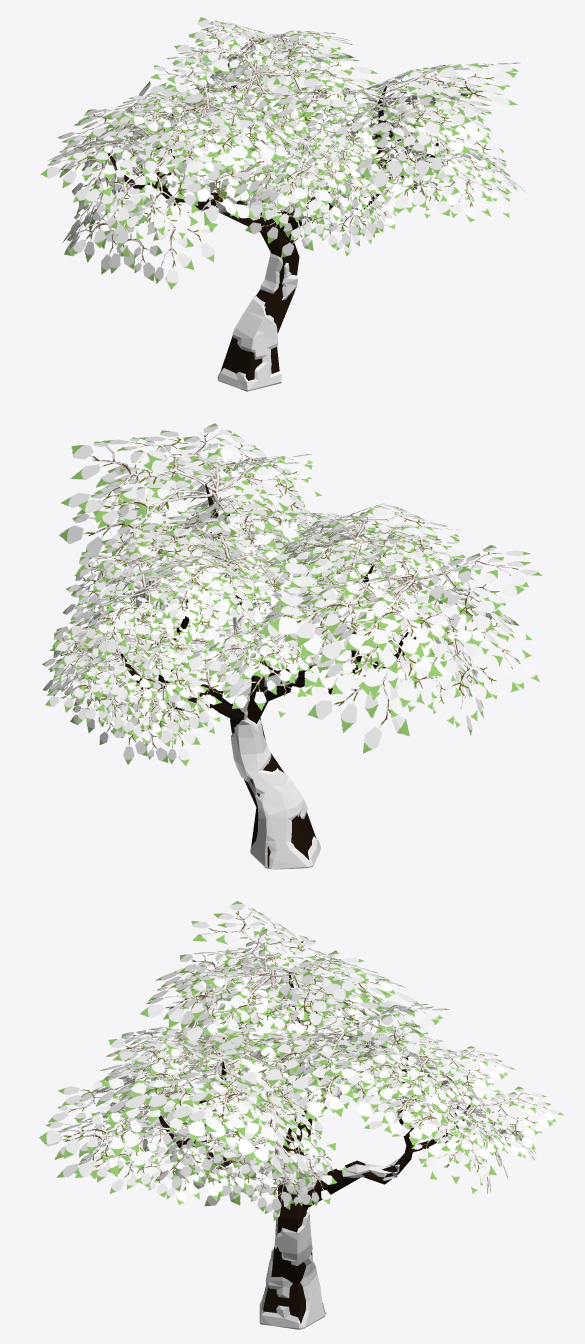
Rendered from Tree_GreenWSnow_03.obj.
The picture shows the model from 3 angles, top to bottom: view 1: azimuth 30°, elevation 25°; view 2: azimuth 150°, elevation 25°; view 3: azimuth 270°, elevation 25°; orthographic projection. The views are drawn at different scales.
Visible parts, largest first — view 1: Tree_GreenWSnow_03_Plane.024; view 2: Tree_GreenWSnow_03_Plane.024; view 3: Tree_GreenWSnow_03_Plane.024.
Part boxes in pixels (<box>): Tree_GreenWSnow_03_Plane.024: <box>40,17,525,391</box>; Tree_GreenWSnow_03_Plane.024: <box>42,423,542,869</box>; Tree_GreenWSnow_03_Plane.024: <box>39,901,563,1329</box>.
Size of the model in its own units: 19.19 by 11.53 by 17.89.
